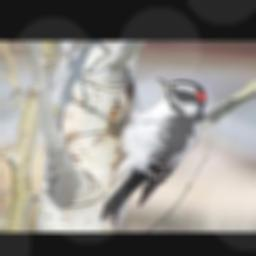Woodpecker: (97, 76, 205, 223)
